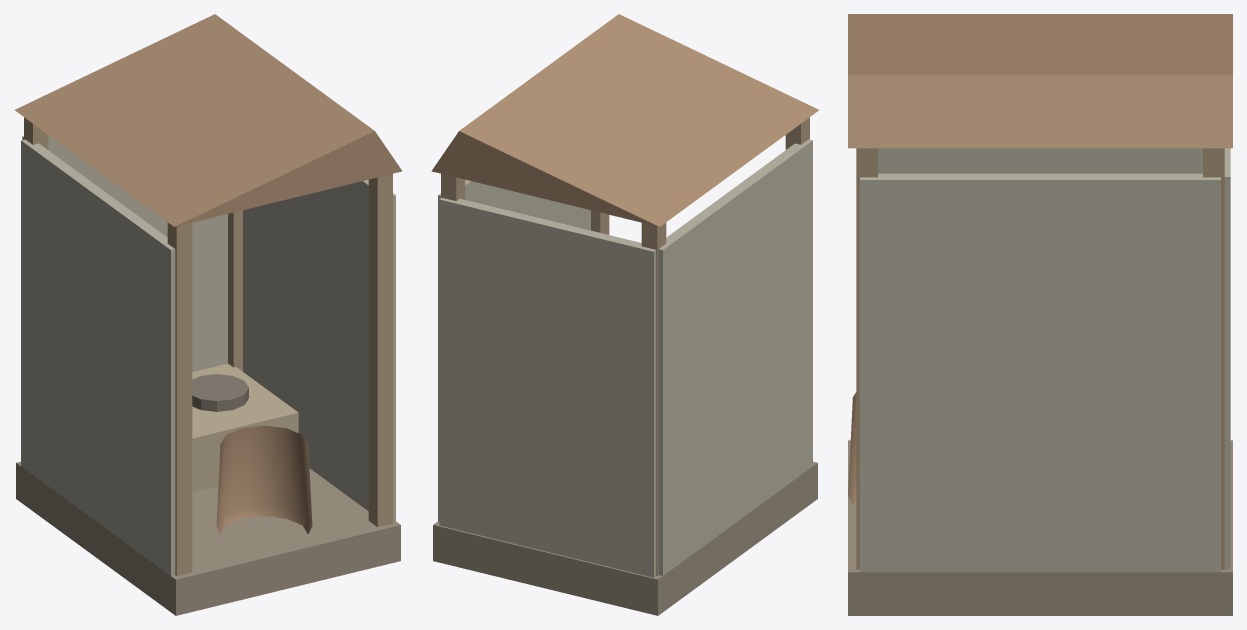
The model's file is trench-line-1917-trench-latrine-48e01e9c__24072.glb.
3 renders of one model, left to right at view 1: azimuth 30°, elevation 25°; view 2: azimuth 150°, elevation 25°; view 3: azimuth 270°, elevation 25°, orthographic. The views are drawn at different scales.
Visible parts, largest first — view 1: trench-latrine; view 2: trench-latrine; view 3: trench-latrine.
Part boxes in pixels (bbox=[...]): trench-latrine: bbox=[15, 14, 402, 615]; trench-latrine: bbox=[431, 14, 818, 615]; trench-latrine: bbox=[848, 14, 1232, 615].
Size of the model in its own units: 1.32 by 2.41 by 1.6.
